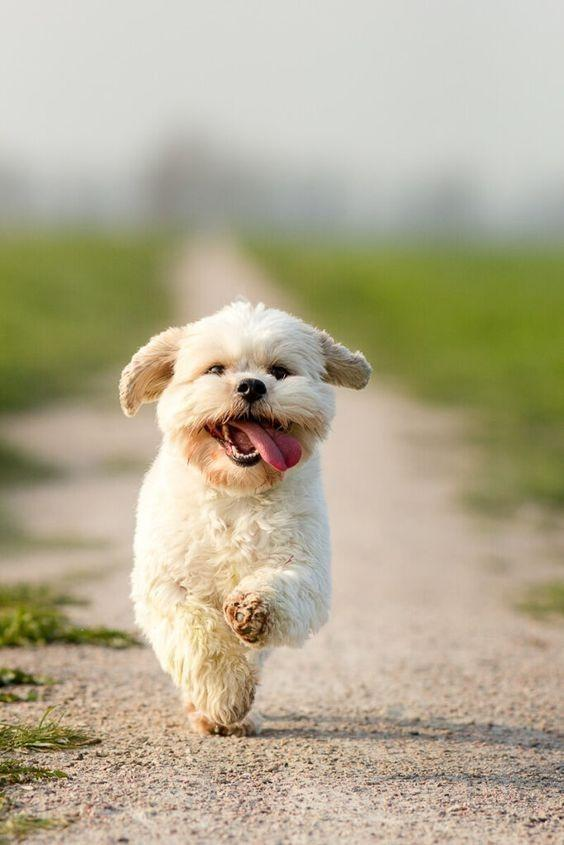adult_dog: (115, 296, 373, 739)
